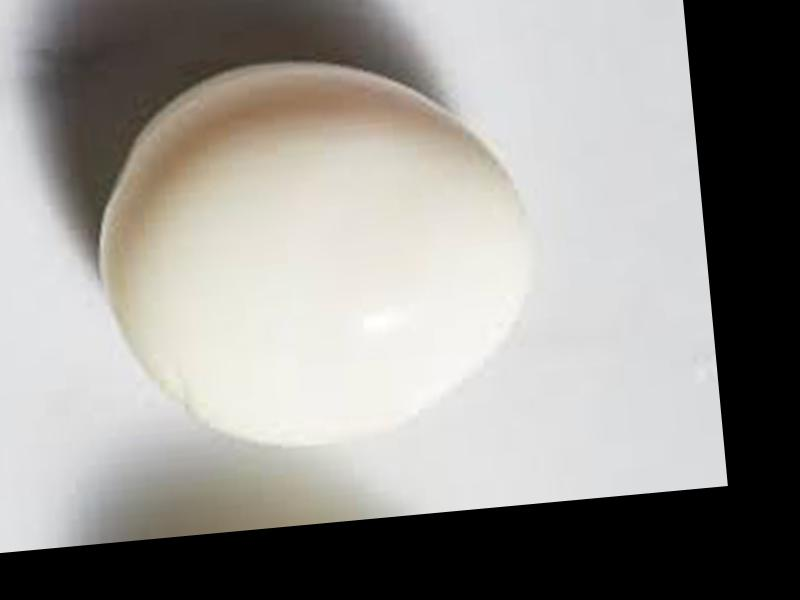Eggs: (81, 41, 544, 462)
